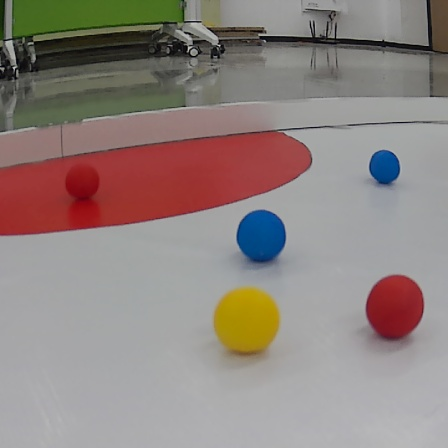blue: (236, 209, 289, 258), (366, 145, 406, 186)
red: (365, 274, 425, 338), (65, 165, 103, 199)
red_base: (0, 128, 310, 234)
yellow: (212, 285, 281, 355)
